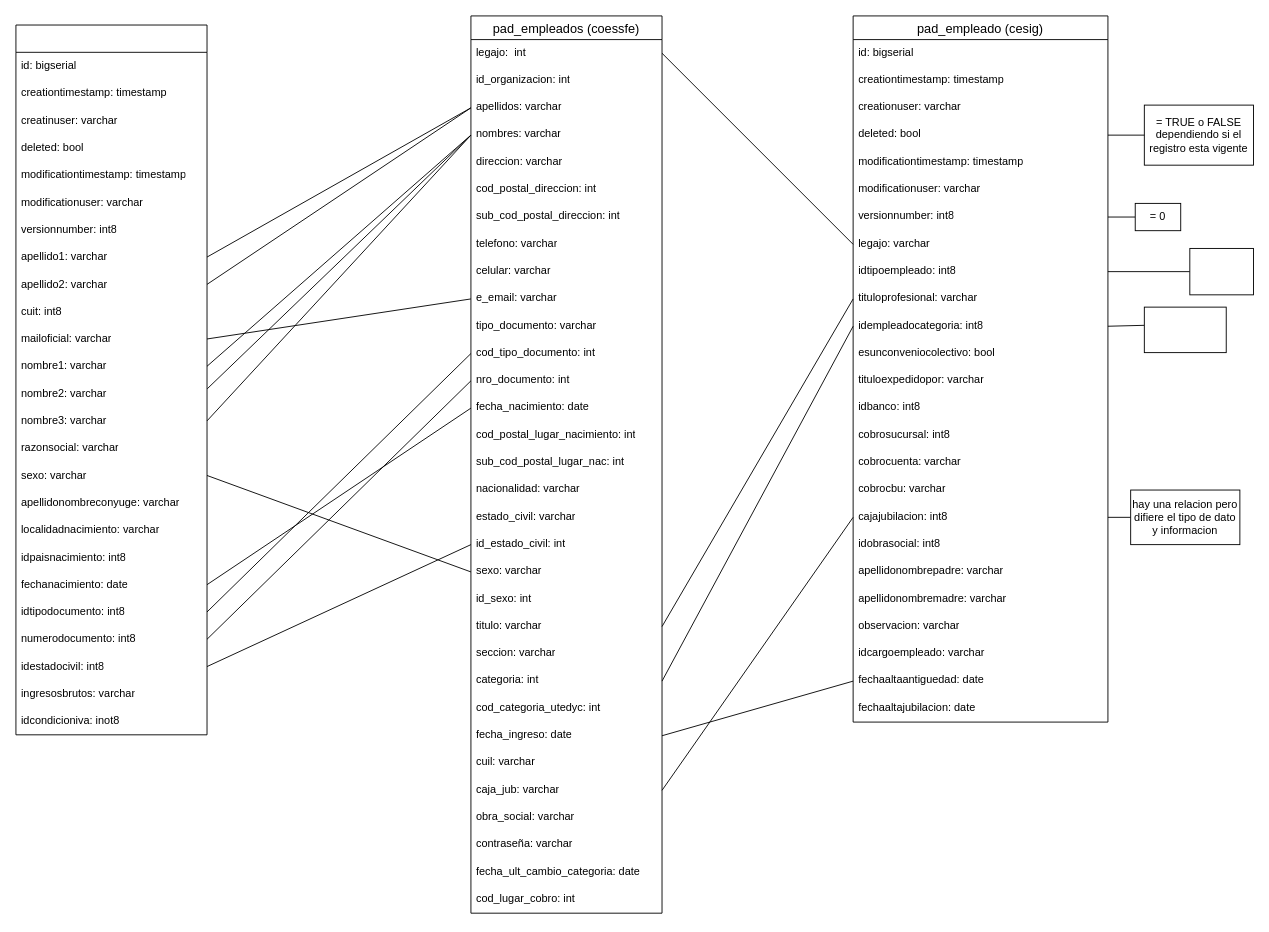
Image size: 1269x932. Some labels were removed from this diagram. Each missing label, with the box of its shape:
= 0 por ahora: (1143, 306, 1226, 353)
= 21 por ahora: (1189, 248, 1254, 295)
pad_persona (pgsql): (15, 24, 207, 735)
